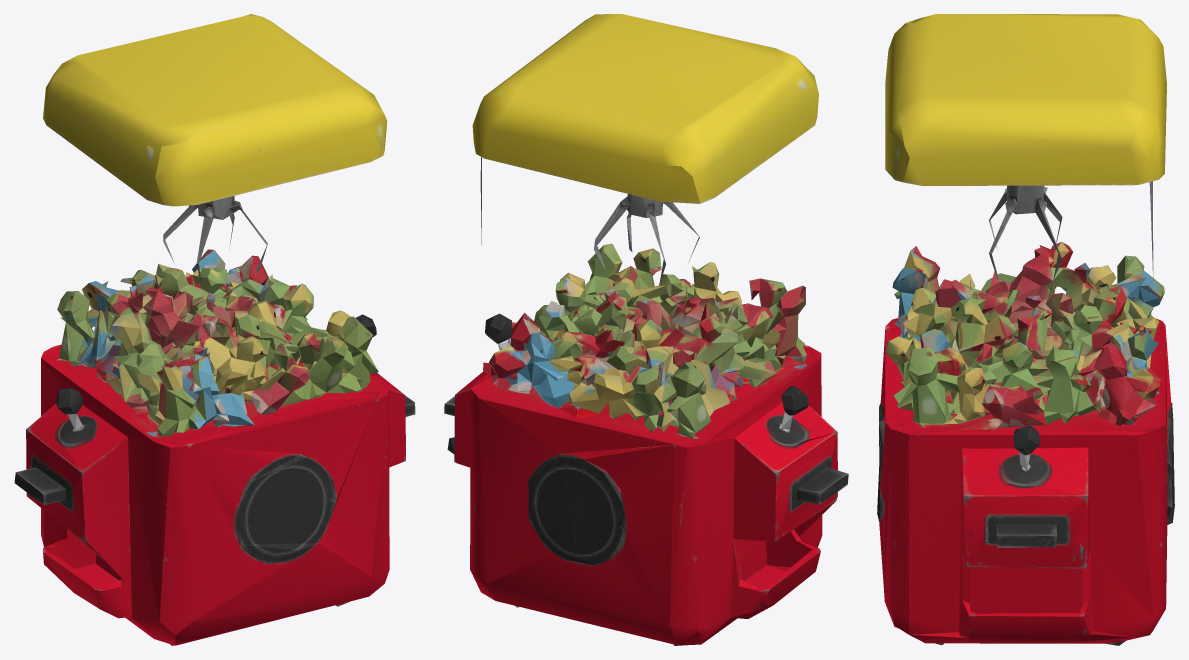
The model's file is claw_machine.glb.
3 views of the same model, side by side, from view 1: azimuth 30°, elevation 25°; view 2: azimuth 150°, elevation 25°; view 3: azimuth 270°, elevation 25° (orthographic). The views are drawn at different scales.
Bounding box in the file's own units: 1.43 × 1.9 × 0.9487.
1 material, 1 textured.
